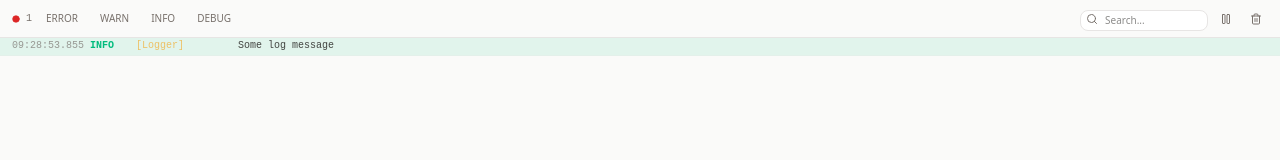
Test case: LiveLogViewer › clears all logs when clear button clicked
Check: the text "Some log message" is shown, box [238,40,334,52]
Click the button with test id "log-clear": click(1256, 18) [1244,6,1268,30]
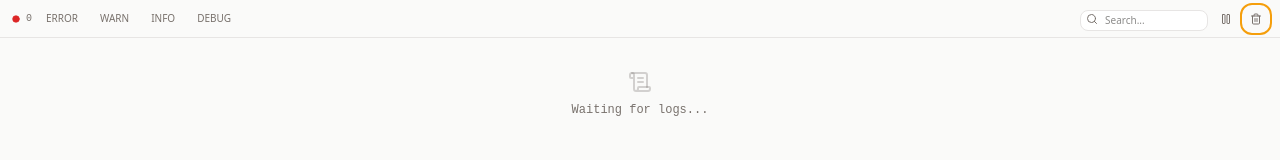
Check: the text "Some log message" is gone
Check: the text "Waiting for logs..." is shown, box [572,102,708,118]
